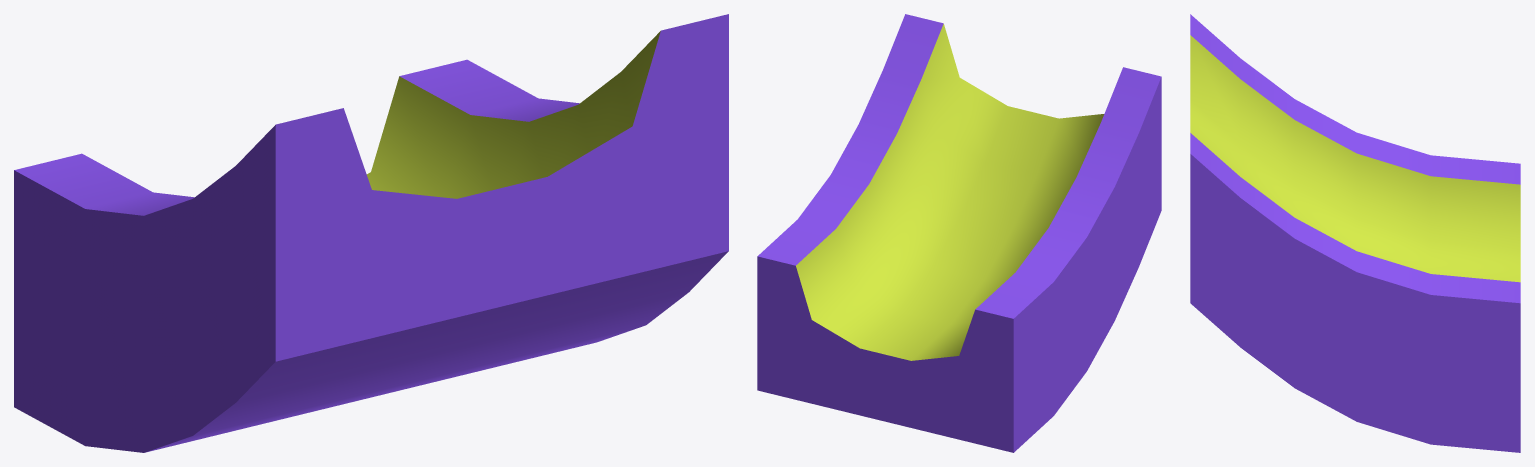
The model's file is rampStart_C.fbx.
3 renders of one model, left to right at view 1: azimuth 30°, elevation 25°; view 2: azimuth 150°, elevation 25°; view 3: azimuth 270°, elevation 25°, orthographic. The views are drawn at different scales.
Visible parts, largest first — view 1: rampStart_C; view 2: rampStart_C; view 3: rampStart_C.
Boxes of the visible parts, x1=… form: rampStart_C: x1=14, y1=14, x2=728, y2=452; rampStart_C: x1=757, y1=14, x2=1161, y2=452; rampStart_C: x1=1190, y1=14, x2=1520, y2=452.
Size of the model in its own units: 10 by 10 by 10.
